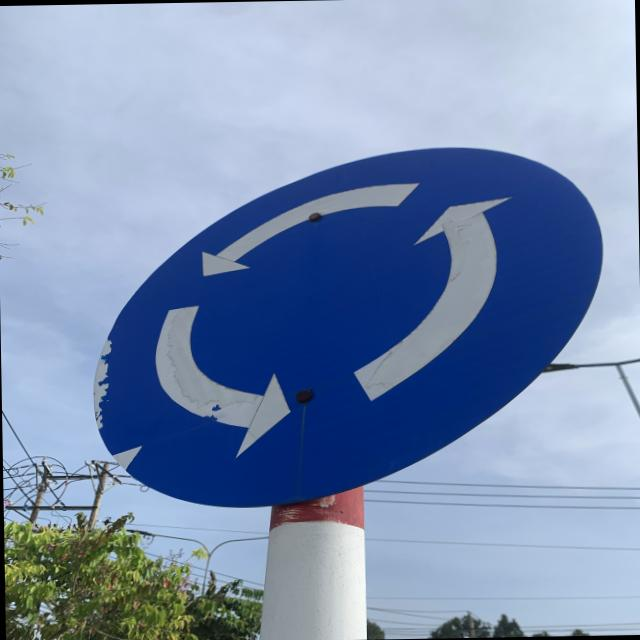Xe_Bus: (92, 144, 606, 511)
